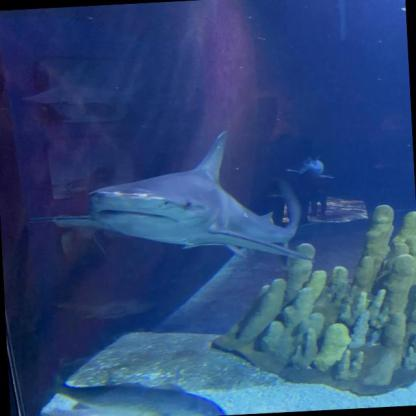fish: (38, 360, 228, 416), (285, 158, 335, 182), (386, 0, 406, 14)
shark: (38, 126, 316, 274)
